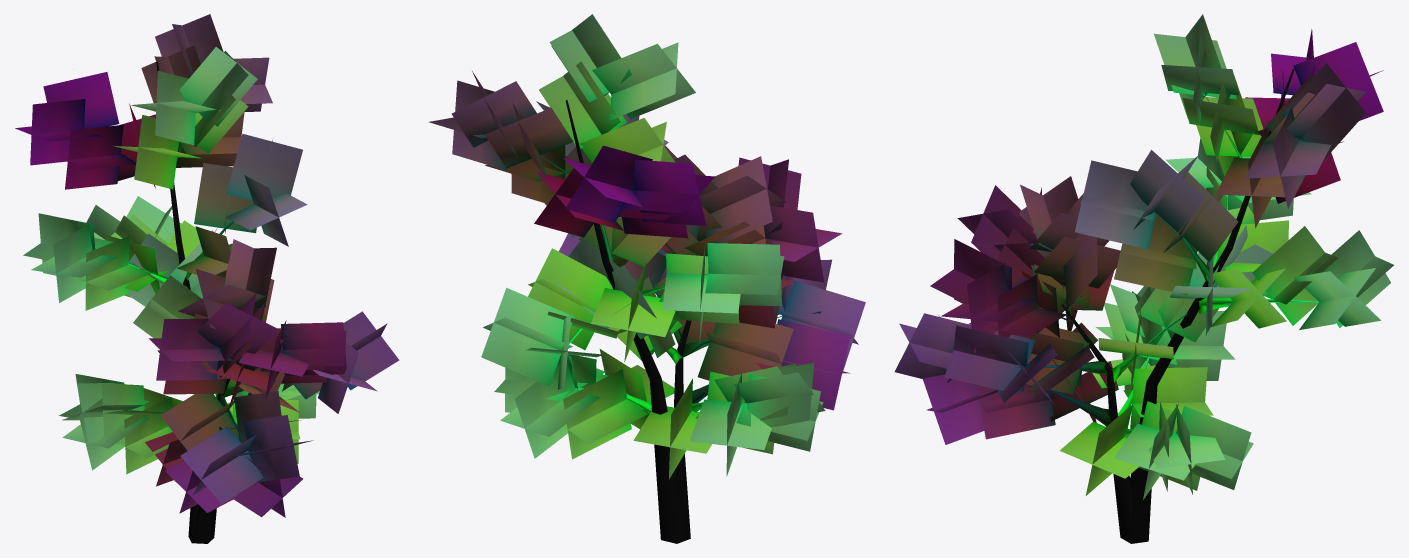
Rendered from URP_P3_Tree_6_LOD_3.fbx.
3 views of the same model, side by side, from view 1: azimuth 30°, elevation 25°; view 2: azimuth 150°, elevation 25°; view 3: azimuth 270°, elevation 25° (orthographic). The views are drawn at different scales.
Visible parts, largest first — view 1: Tree_6_LOD_3; view 2: Tree_6_LOD_3; view 3: Tree_6_LOD_3.
Part boxes in pixels (x1,y1,x2,y2): Tree_6_LOD_3: [15, 14, 399, 543]; Tree_6_LOD_3: [428, 14, 865, 543]; Tree_6_LOD_3: [894, 14, 1393, 543].
Size of the model in its own units: 534 by 872 by 748.
